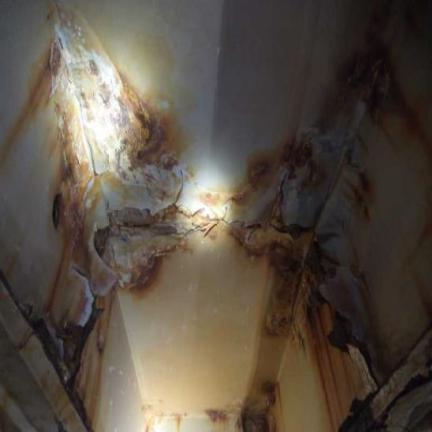besi_tidak_karat: (72, 0, 373, 187), (120, 228, 270, 423), (88, 291, 143, 431)
karat: (50, 2, 198, 301), (196, 178, 318, 337), (277, 304, 367, 431), (100, 204, 212, 300), (281, 129, 342, 228), (0, 47, 50, 166), (60, 306, 102, 391), (128, 253, 159, 294), (244, 370, 270, 415)
